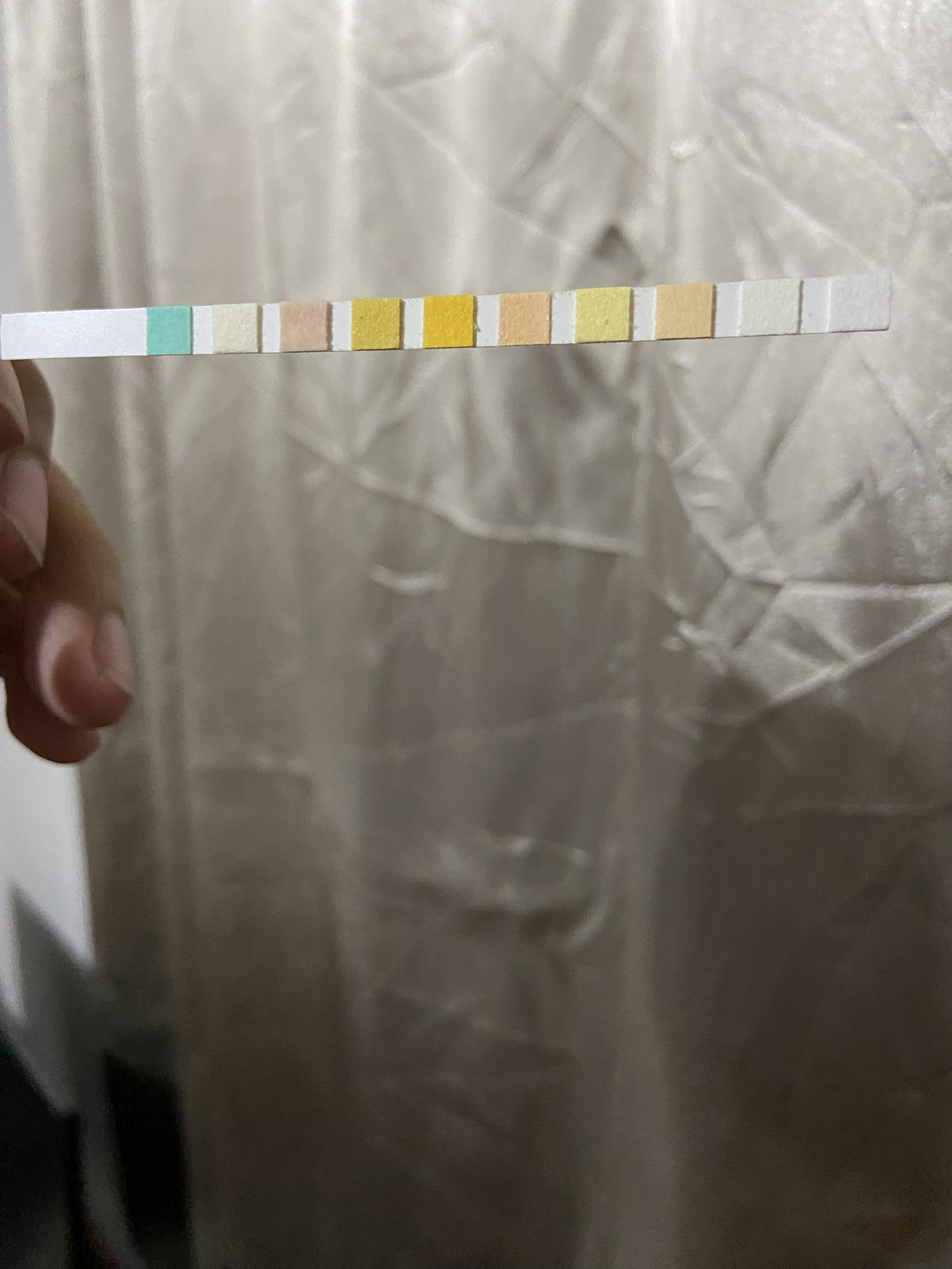Bilirubin: (213, 306, 258, 353)
Blood: (424, 296, 472, 347)
Glucose: (147, 308, 191, 354)
Ketone: (279, 303, 326, 351)
Leukocytes: (832, 276, 889, 328)
Nitrite: (742, 282, 798, 334)
Protein: (577, 290, 629, 341)
SpGravity: (351, 299, 399, 349)
Urobilinogen: (657, 285, 711, 338)
pH: (500, 294, 549, 345)
strip: (0, 275, 891, 361)
